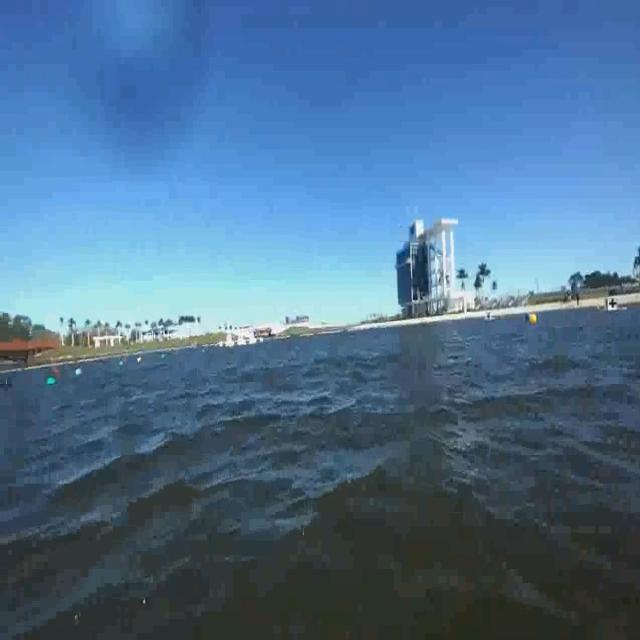green-buoy: (46, 377, 55, 386)
yellow-buoy: (530, 312, 538, 326)
